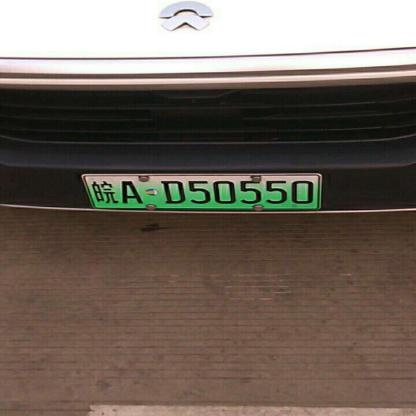lp: (85, 176, 318, 207)
